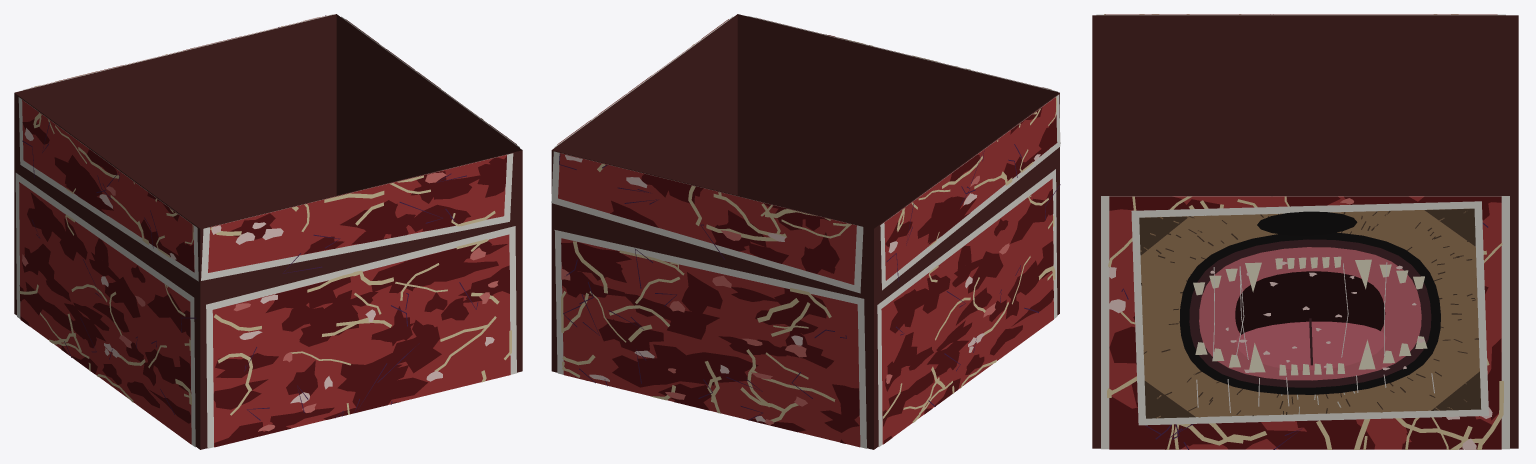
The model's file is ps_block@3.glb.
The picture shows the model from 3 angles, left to right: view 1: azimuth 30°, elevation 25°; view 2: azimuth 150°, elevation 25°; view 3: azimuth 270°, elevation 25°; orthographic projection. The views are drawn at different scales.
Parts seen in each view (by area): view 1: teil0, teil2, teil3, teil1, teil4, teil6, teil5, teil7; view 2: teil0, teil2, teil3, teil1, teil4, teil7, teil5, teil6; view 3: teil0, teil19, teil1, teil3, teil24, teil2, teil25, teil22, teil26, teil23, teil20, teil27 (+4 smaller).
Part boxes in pixels (box(x1,y1,x2,y2)): teil0: box(14, 14, 522, 449); teil2: box(19, 15, 516, 446); teil3: box(19, 19, 516, 447); teil1: box(15, 14, 519, 448); teil4: box(19, 26, 511, 415); teil6: box(24, 17, 494, 403); teil5: box(22, 15, 478, 420); teil7: box(22, 172, 498, 431); teil0: box(551, 14, 1059, 449); teil2: box(558, 17, 1056, 447); teil3: box(557, 19, 1057, 443); teil1: box(551, 16, 1060, 448); teil4: box(561, 37, 1056, 422); teil7: box(561, 35, 1009, 425); teil5: box(559, 144, 1060, 420); teil6: box(565, 87, 1048, 422); teil0: box(1092, 15, 1518, 448); teil19: box(1140, 208, 1479, 418); teil1: box(1096, 14, 1509, 449); teil3: box(1109, 196, 1501, 449); teil24: box(1199, 247, 1421, 380); teil2: box(1105, 14, 1501, 449); teil25: box(1235, 271, 1385, 334); teil22: box(1179, 232, 1440, 394); teil26: box(1235, 321, 1386, 369); teil23: box(1189, 239, 1431, 387); teil20: box(1139, 208, 1481, 418); teil27: box(1193, 256, 1427, 375).
Bounding box in the file's own units: 0.925 × 0.59 × 0.9124.
